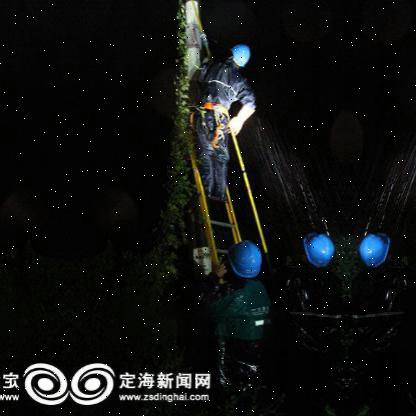Helmet: (222, 240, 269, 288), (358, 228, 395, 270), (300, 231, 337, 273), (229, 40, 254, 72)
